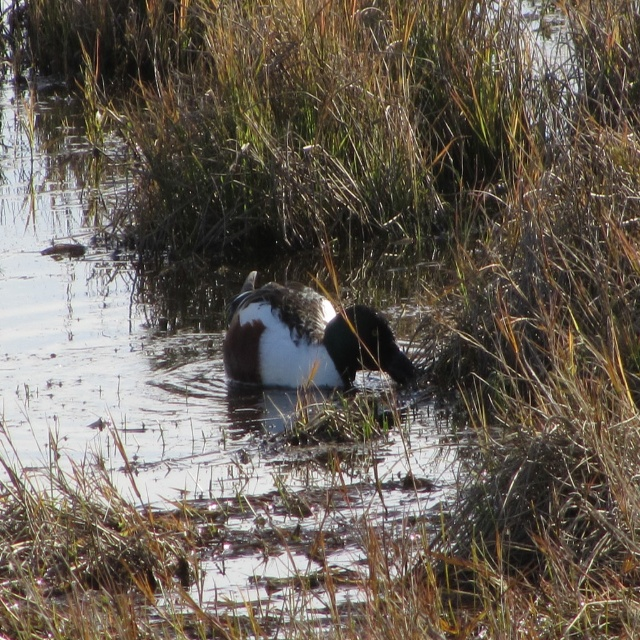Duck: (223, 270, 416, 395)
